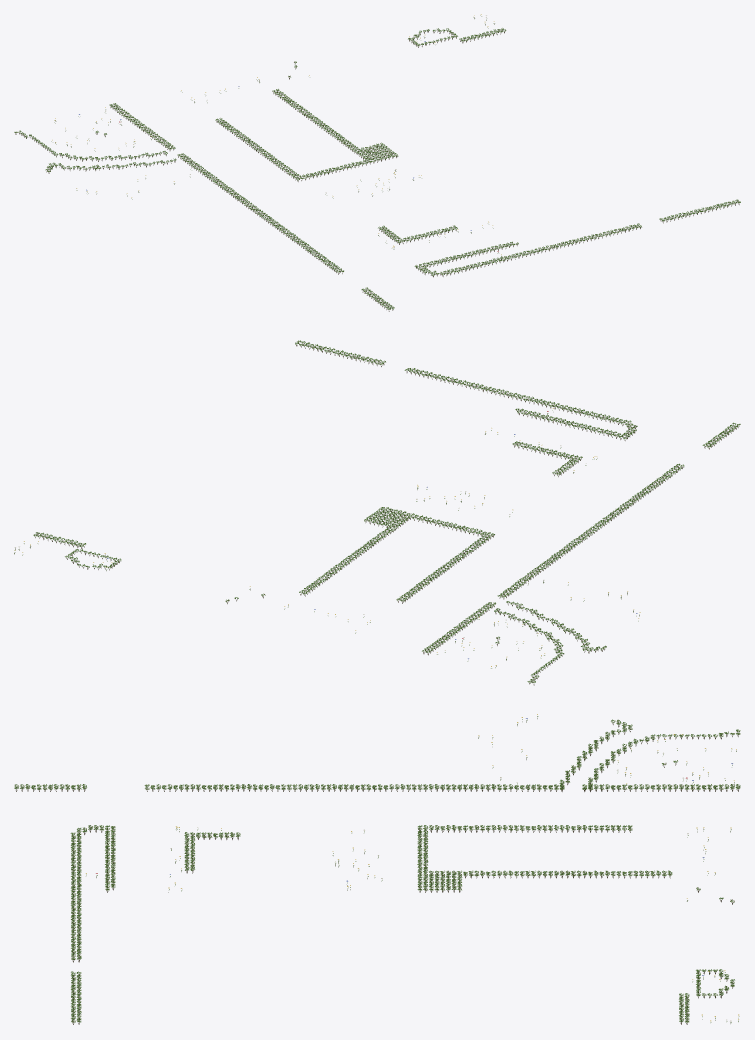
3 renders of one model, top to bottom at view 1: azimuth 30°, elevation 25°; view 2: azimuth 150°, elevation 25°; view 3: azimuth 270°, elevation 25°, orthographic. The views are drawn at different scales.
Parts seen in each view (by area): view 1: GROUND_FLORA_s_-7_3; view 2: GROUND_FLORA_s_-7_3; view 3: GROUND_FLORA_s_-7_3.
Boxes of the visible parts, x1,y1,x2,y2 form: GROUND_FLORA_s_-7_3: (14,14,740,311); GROUND_FLORA_s_-7_3: (14,340,740,685); GROUND_FLORA_s_-7_3: (14,714,740,1024).
Bounding box in the file's own units: 128 × 1.97 × 128.
